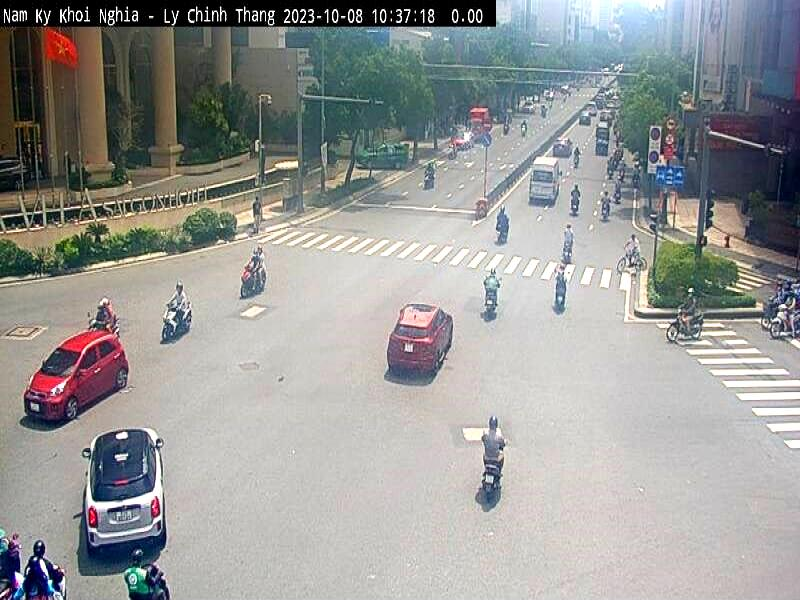car: (82, 428, 168, 556), (23, 329, 130, 422), (387, 304, 454, 378), (528, 156, 562, 204), (357, 140, 409, 170), (0, 157, 28, 191), (553, 138, 573, 158)
motorcycle: (0, 533, 20, 600), (162, 302, 192, 343), (667, 310, 703, 343), (140, 564, 170, 600), (771, 304, 800, 340), (482, 461, 504, 502), (240, 266, 267, 299), (88, 313, 120, 338), (760, 298, 784, 330), (48, 565, 66, 600), (485, 288, 497, 318), (554, 284, 565, 313), (562, 243, 574, 261), (498, 222, 508, 242), (424, 172, 434, 191), (602, 204, 609, 219), (572, 198, 578, 214)
truck: (470, 108, 489, 140)
